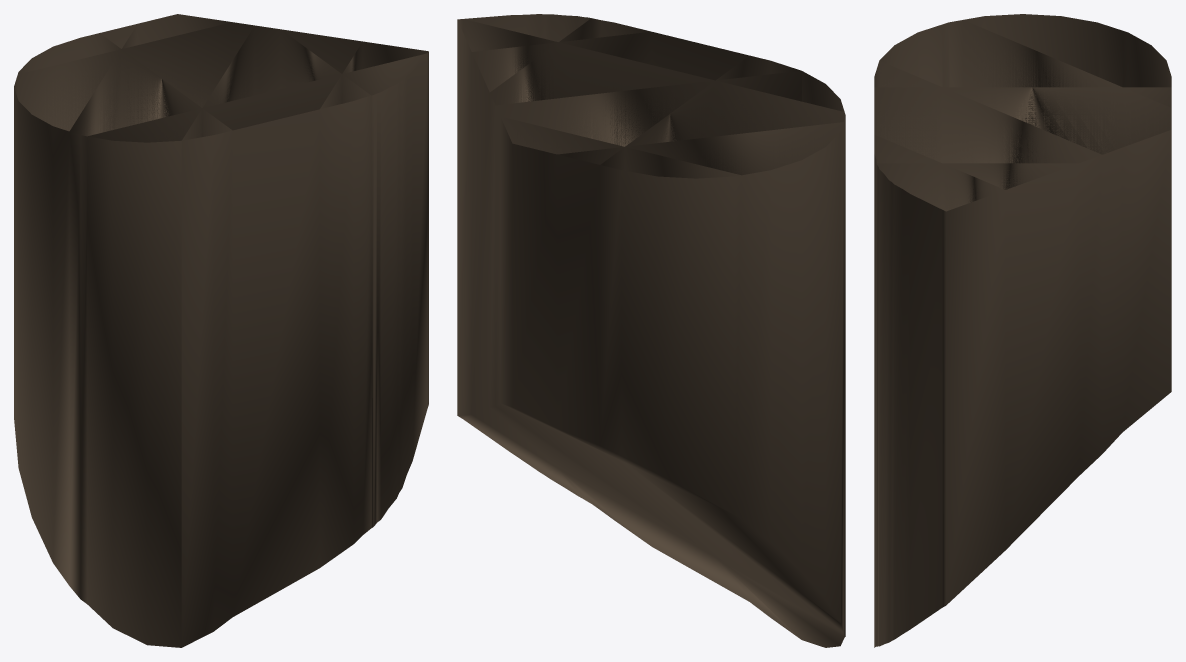
The picture shows the model from 3 angles, left to right: view 1: azimuth 30°, elevation 25°; view 2: azimuth 150°, elevation 25°; view 3: azimuth 270°, elevation 25°; orthographic projection. The views are drawn at different scales.
Parts seen in each view (by area): view 1: prototype; view 2: prototype; view 3: prototype.
Boxes of the visible parts, bbox=[...] form: prototype: bbox=[14, 14, 428, 647]; prototype: bbox=[457, 14, 845, 647]; prototype: bbox=[874, 14, 1171, 647].
Bounding box in the file's own units: 5.19 × 6.94 × 3.3.
